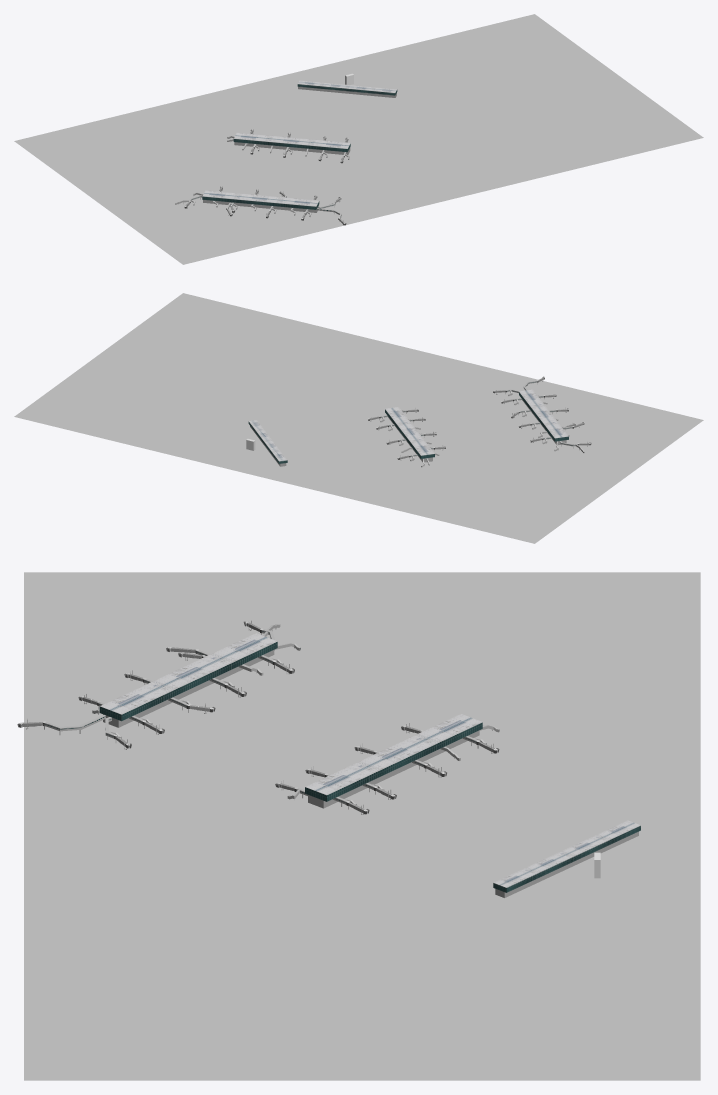
File: Dash8q100 .gltf
3 views of the same model, one above another, from view 1: azimuth 30°, elevation 25°; view 2: azimuth 150°, elevation 25°; view 3: azimuth 270°, elevation 25° (orthographic). The views are drawn at different scales.
Visible parts, largest first — view 1: image, Buffer Object 8 (×3), Buffer Object 9 (×3); view 2: image, Buffer Object 9 (×3); view 3: image, Buffer Object 9 (×3), Buffer Object 8 (×3).
Part boxes in pixels (x1=…): image: x1=14, y1=14, x2=703, y2=264; Buffer Object 8 (×3): x1=202, y1=84, x2=395, y2=212; Buffer Object 9 (×3): x1=203, y1=80, x2=396, y2=206; image: x1=14, y1=293, x2=703, y2=543; Buffer Object 9 (×3): x1=249, y1=389, x2=568, y2=461; image: x1=24, y1=572, x2=700, y2=1080; Buffer Object 9 (×3): x1=100, y1=633, x2=640, y2=887; Buffer Object 8 (×3): x1=118, y1=641, x2=640, y2=897.
Size of the model in its own units: 50.37 by 0.8685 by 28.61.
